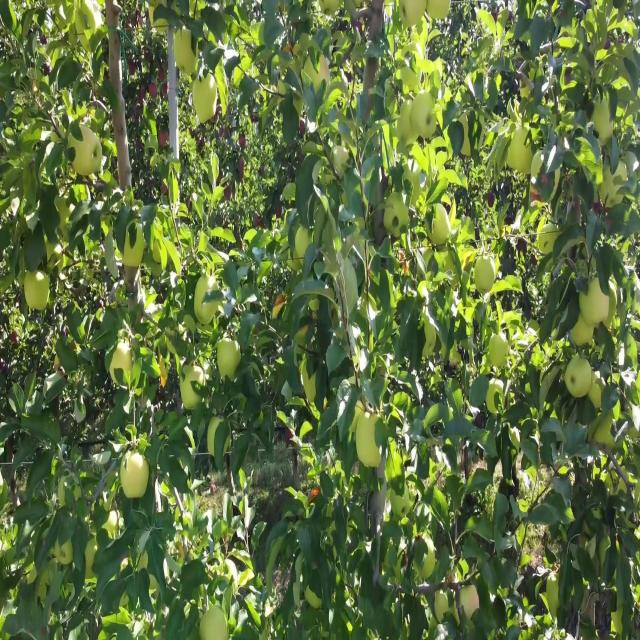apple: (580, 277, 616, 325), (120, 455, 151, 503), (196, 277, 224, 325), (24, 270, 51, 313), (508, 135, 535, 174), (176, 28, 199, 73), (76, 135, 99, 180), (124, 227, 146, 270), (476, 255, 500, 293), (220, 341, 241, 382), (196, 85, 217, 126), (572, 312, 595, 348), (184, 376, 204, 412), (176, 35, 196, 71), (196, 78, 217, 112), (76, 149, 98, 180), (596, 412, 614, 448), (44, 234, 62, 270), (196, 99, 217, 126), (428, 0, 452, 21), (488, 383, 504, 414), (152, 7, 169, 36), (296, 227, 312, 256), (292, 234, 311, 258), (184, 56, 200, 84), (208, 419, 219, 457), (88, 106, 105, 130), (424, 547, 436, 581), (60, 206, 72, 240), (60, 540, 75, 567), (152, 355, 167, 382), (592, 376, 603, 411), (108, 511, 120, 540), (612, 611, 624, 639), (76, 184, 89, 204), (144, 291, 157, 311), (108, 7, 120, 28), (240, 56, 252, 73), (292, 255, 304, 272), (236, 63, 244, 87), (124, 270, 137, 284), (300, 426, 312, 441), (76, 106, 88, 121), (160, 483, 171, 498), (116, 243, 124, 263), (240, 469, 247, 491), (148, 85, 157, 100), (104, 220, 112, 236), (128, 63, 136, 78), (276, 206, 284, 220), (160, 376, 168, 389), (312, 490, 320, 501)
